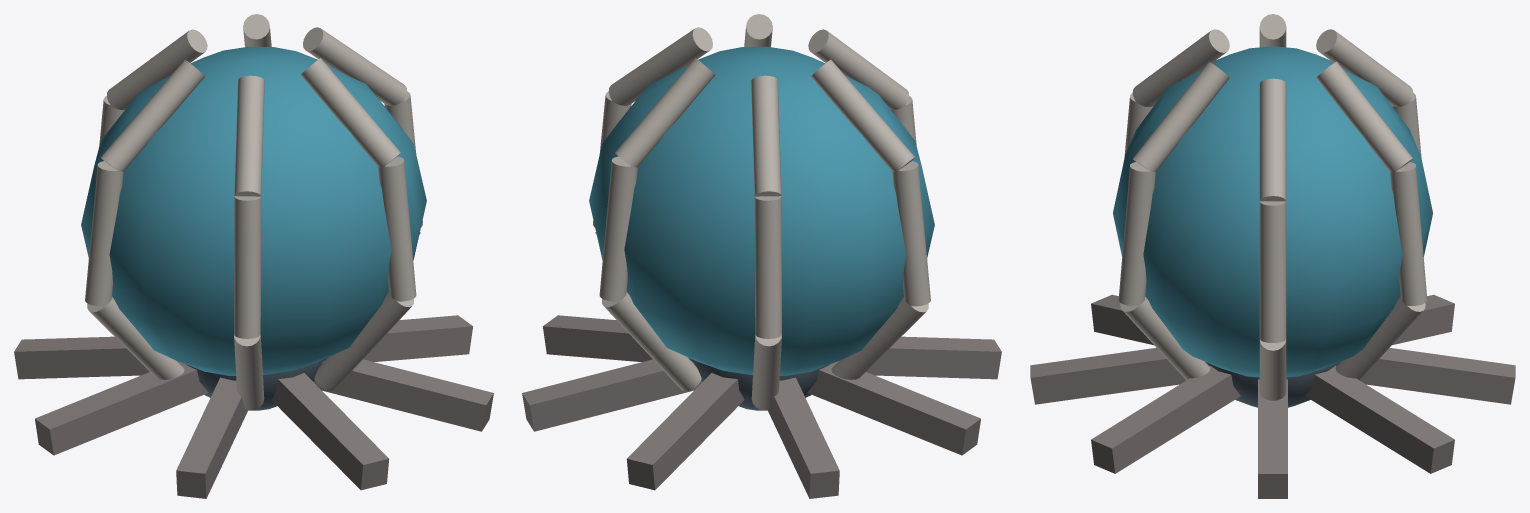
The model's file is CMU3DHiveCMU14PathogenPlasmaTreeConstructionNode.glb.
3 renders of one model, left to right at view 1: azimuth 30°, elevation 25°; view 2: azimuth 150°, elevation 25°; view 3: azimuth 270°, elevation 25°, orthographic.
Parts seen in each view (by area): view 1: central nutrient pod, curved pod cage rib (×13), anchoring root (×6), construction bud; view 2: central nutrient pod, curved pod cage rib (×13), anchoring root (×6), construction bud; view 3: central nutrient pod, curved pod cage rib (×14), anchoring root (×7), construction bud.
Part boxes in pixels (x1,y1,x2,y2): central nutrient pod: [81, 46, 426, 375]; curved pod cage rib (×13): [85, 14, 422, 410]; anchoring root (×6): [14, 315, 493, 498]; construction bud: [187, 357, 327, 410]; central nutrient pod: [589, 46, 934, 375]; curved pod cage rib (×13): [593, 14, 930, 410]; anchoring root (×6): [522, 315, 1001, 498]; construction bud: [688, 357, 828, 410]; central nutrient pod: [1113, 46, 1432, 377]; curved pod cage rib (×14): [1118, 14, 1427, 400]; anchoring root (×7): [1030, 294, 1515, 498]; construction bud: [1205, 362, 1340, 407].
Bounding box in the file's own units: 0.9085 × 0.735 × 0.9085.
